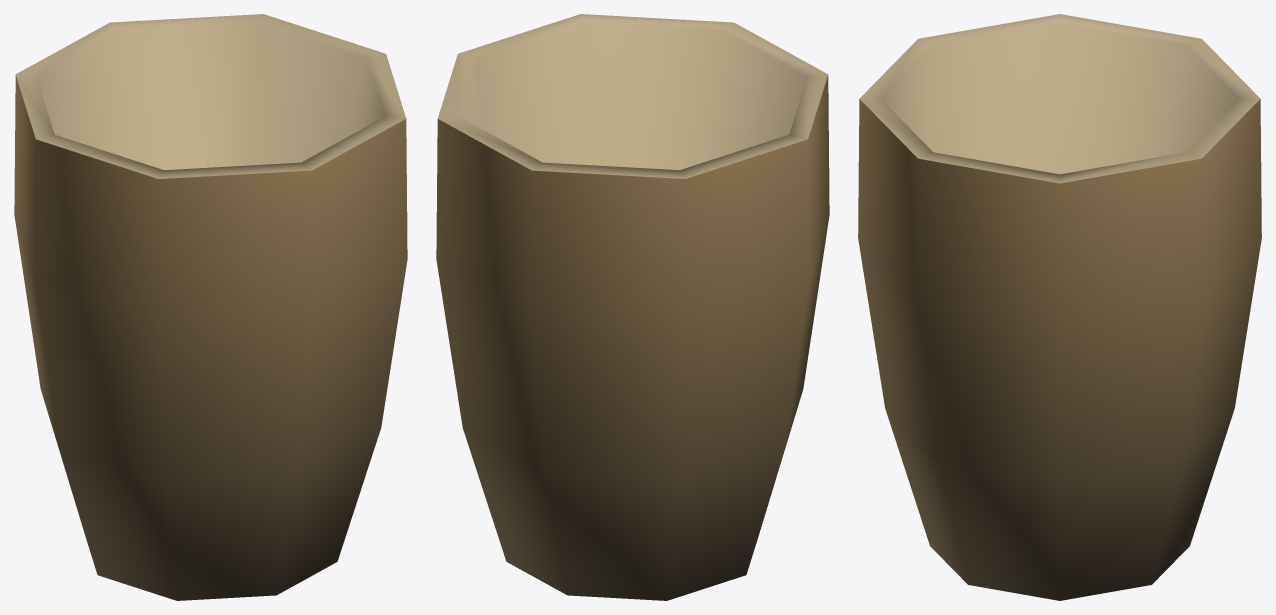
The model's file is JuiceGlass_Medium.fbx.
3 renders of one model, left to right at view 1: azimuth 30°, elevation 25°; view 2: azimuth 150°, elevation 25°; view 3: azimuth 270°, elevation 25°, orthographic.
Parts seen in each view (by area): view 1: JuiceGlass_Medium; view 2: JuiceGlass_Medium; view 3: JuiceGlass_Medium.
Part boxes in pixels (box(x1,y1,x2,y2)): JuiceGlass_Medium: box(14, 14, 407, 600); JuiceGlass_Medium: box(436, 14, 829, 600); JuiceGlass_Medium: box(858, 14, 1261, 600).
Size of the model in its own units: 38.39 by 46.93 by 38.39.
